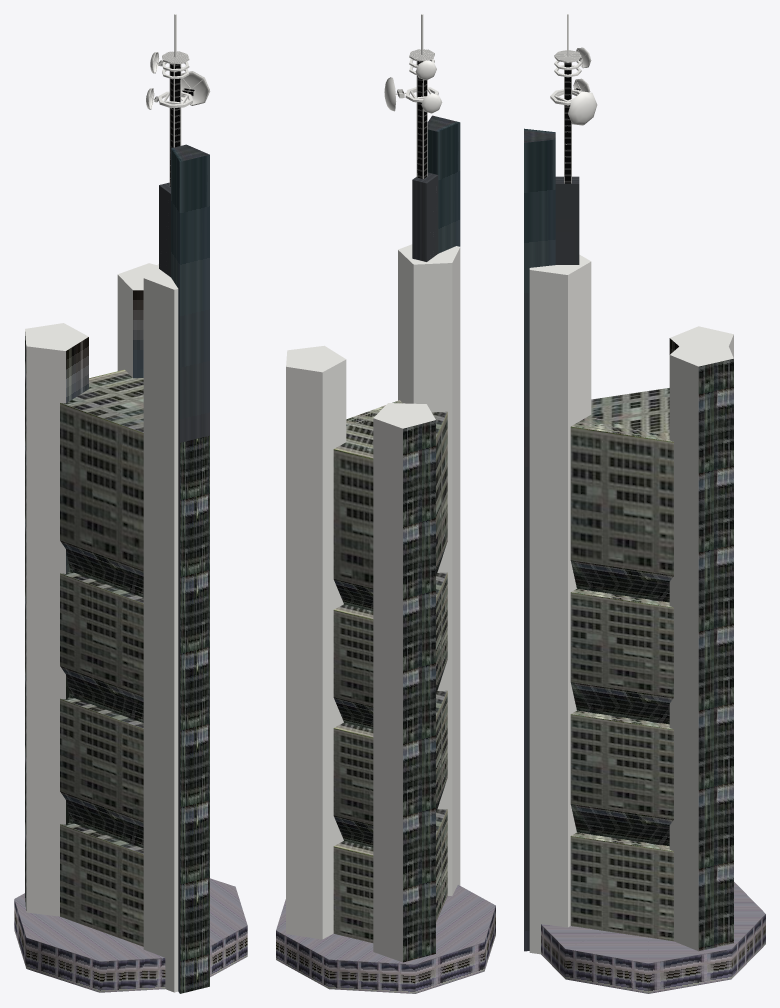
File: mitakihara_tower.fbx
3 views of the same model, side by side, from view 1: azimuth 30°, elevation 25°; view 2: azimuth 150°, elevation 25°; view 3: azimuth 270°, elevation 25° (orthographic). The views are drawn at different scales.
Visible parts, largest first — view 1: tower; view 2: tower; view 3: tower.
Boxes of the visible parts, bbox=[...] form: tower: bbox=[14, 14, 247, 993]; tower: bbox=[276, 14, 495, 993]; tower: bbox=[524, 14, 765, 993].
Bounding box in the file's own units: 140 × 612 × 144.
12 materials, 12 textured.
